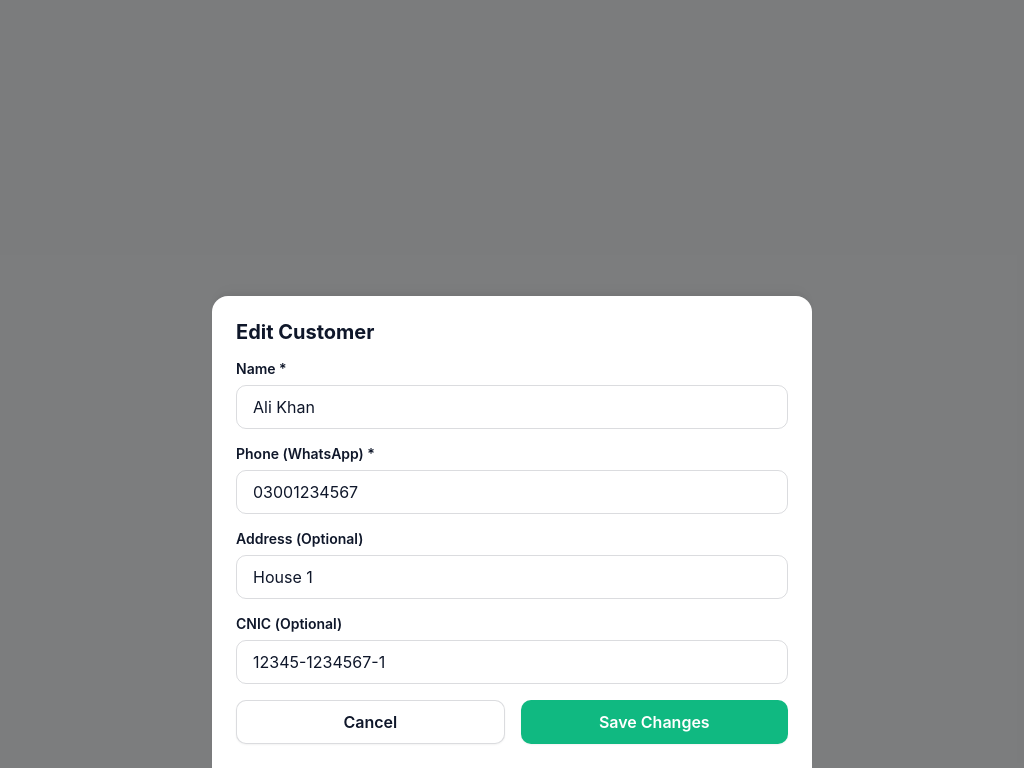
Test: NewCustomerForm (CustomerForm) › Edit submission › edit mode shows loading state during submit
The width and height of the screenshot is (1024, 768).
Click the button "Save Changes": click(654, 722) 520,700 -> 788,744
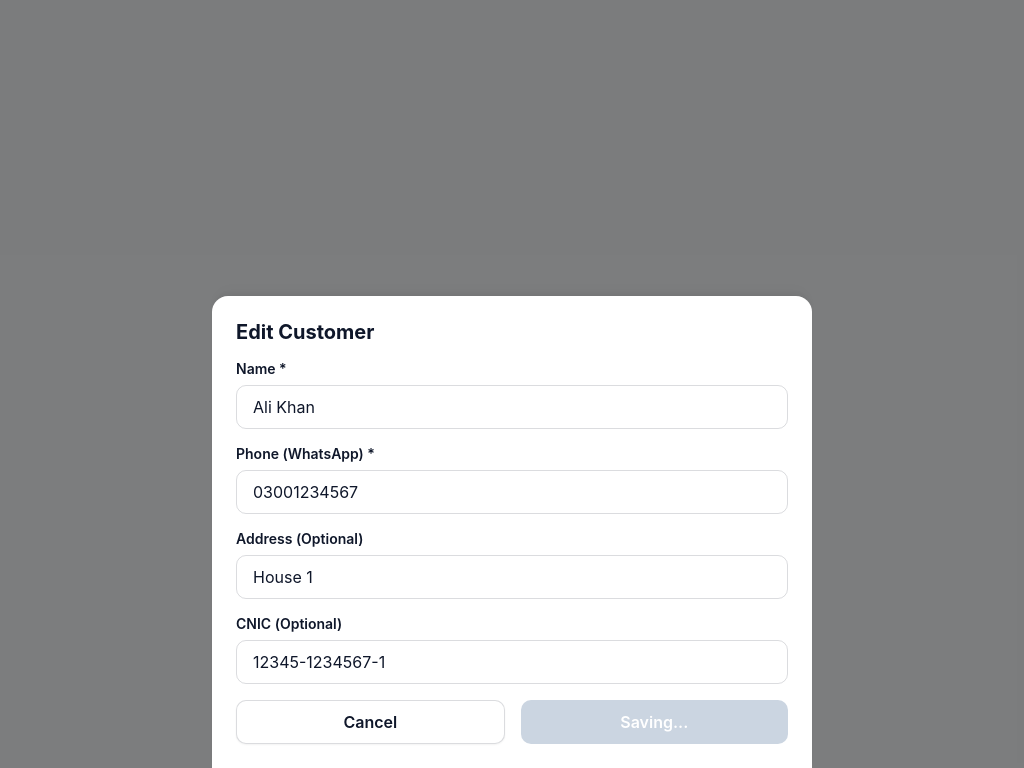
Expected: the button named "Save Changes" reads "Saving...", 520,700 -> 788,744
